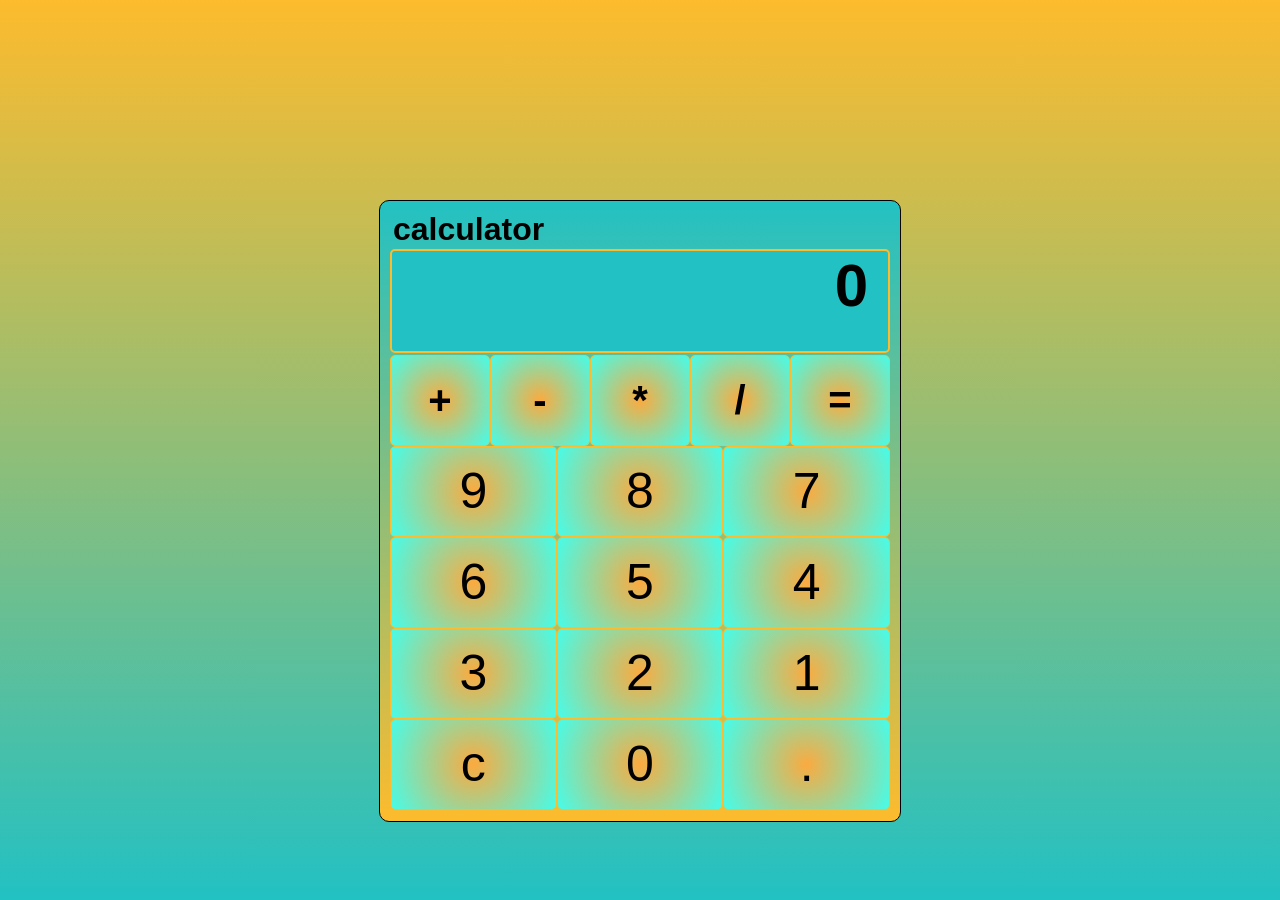
it: display calculations › display 6 when 3*2
Click the button "3" at (473, 673), box [390,628,557,719]
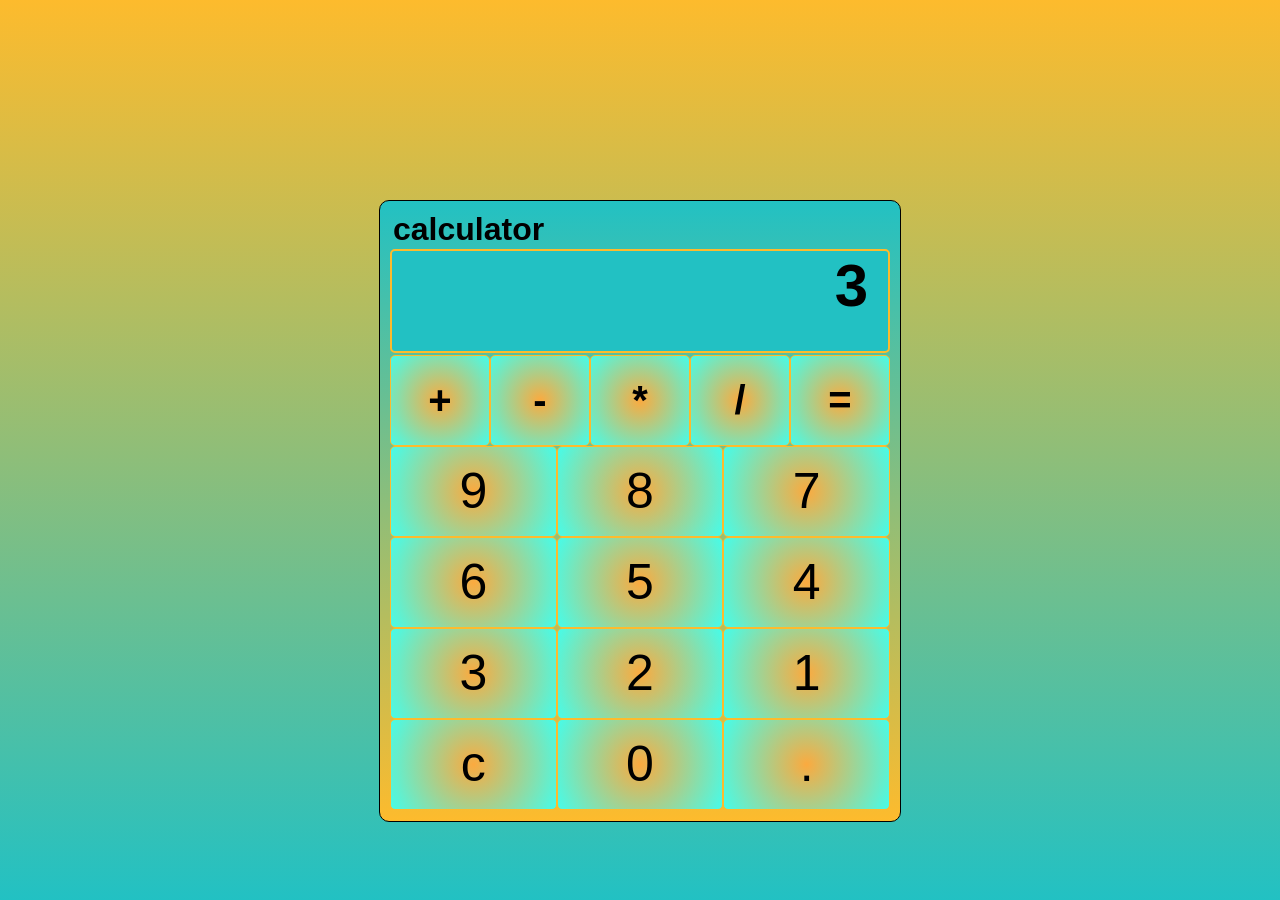
Click the button "*" at (640, 400), box [590,355,690,446]
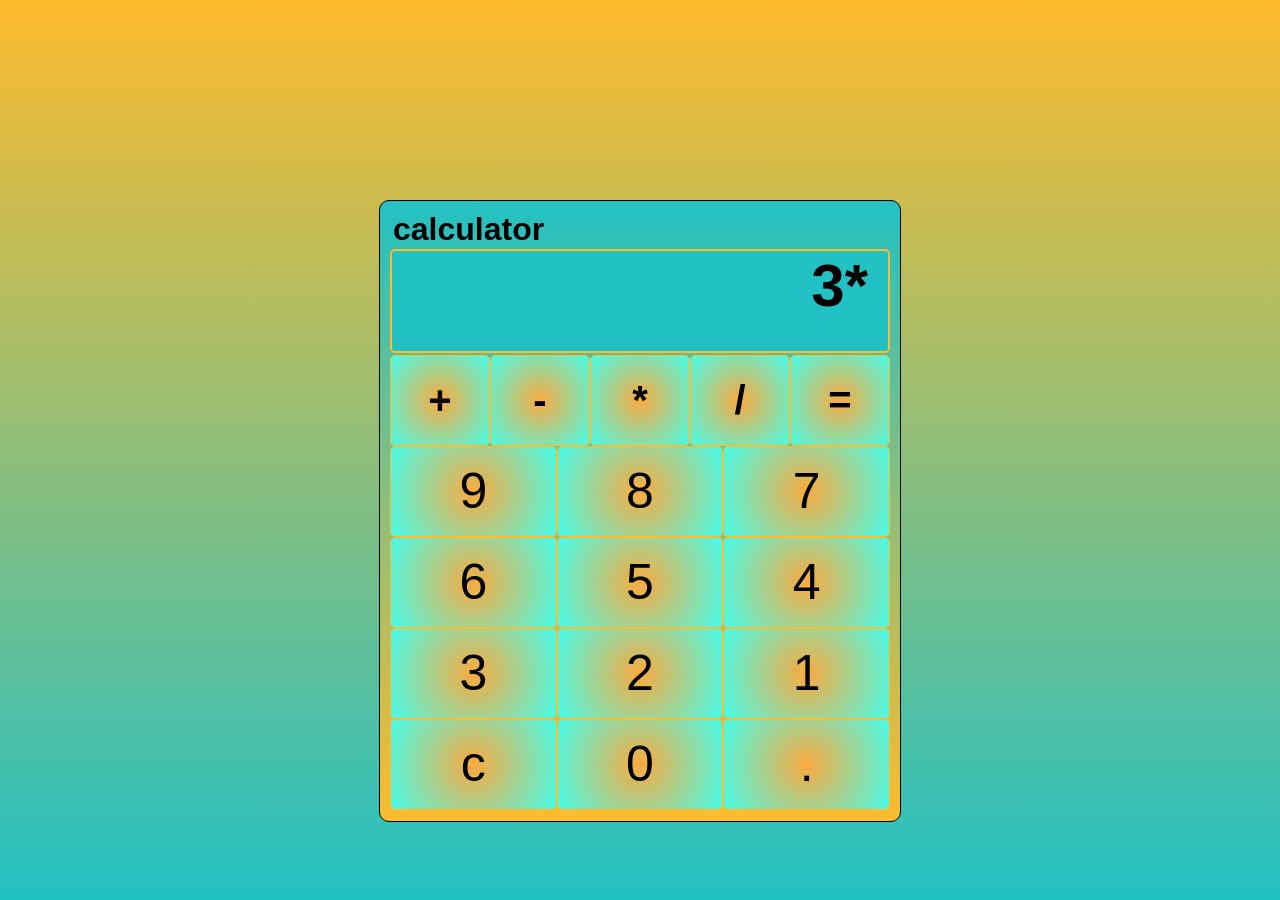
Click the button "2" at (640, 673), box [557,628,723,719]
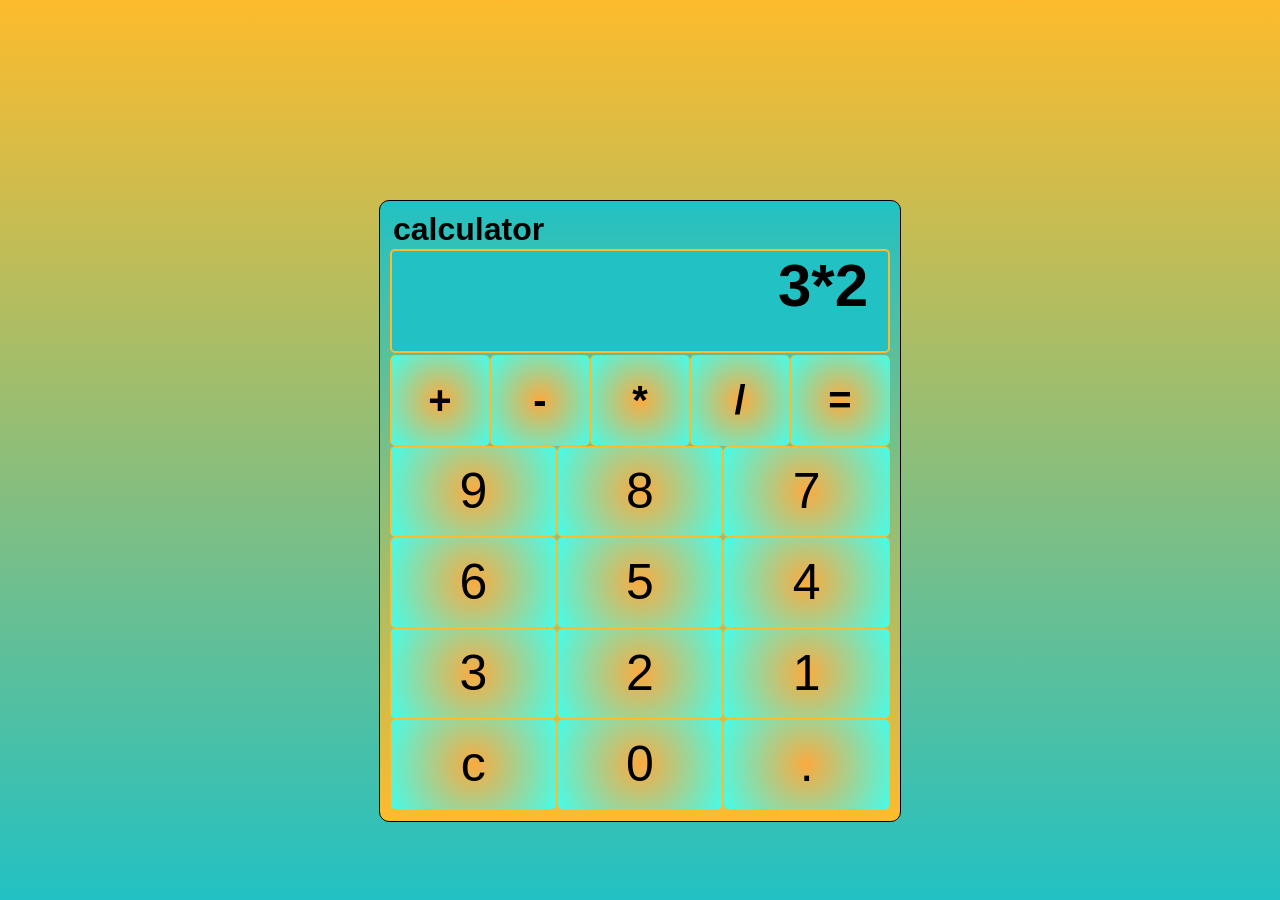
Click the button "=" at (840, 400), box [790,355,890,446]
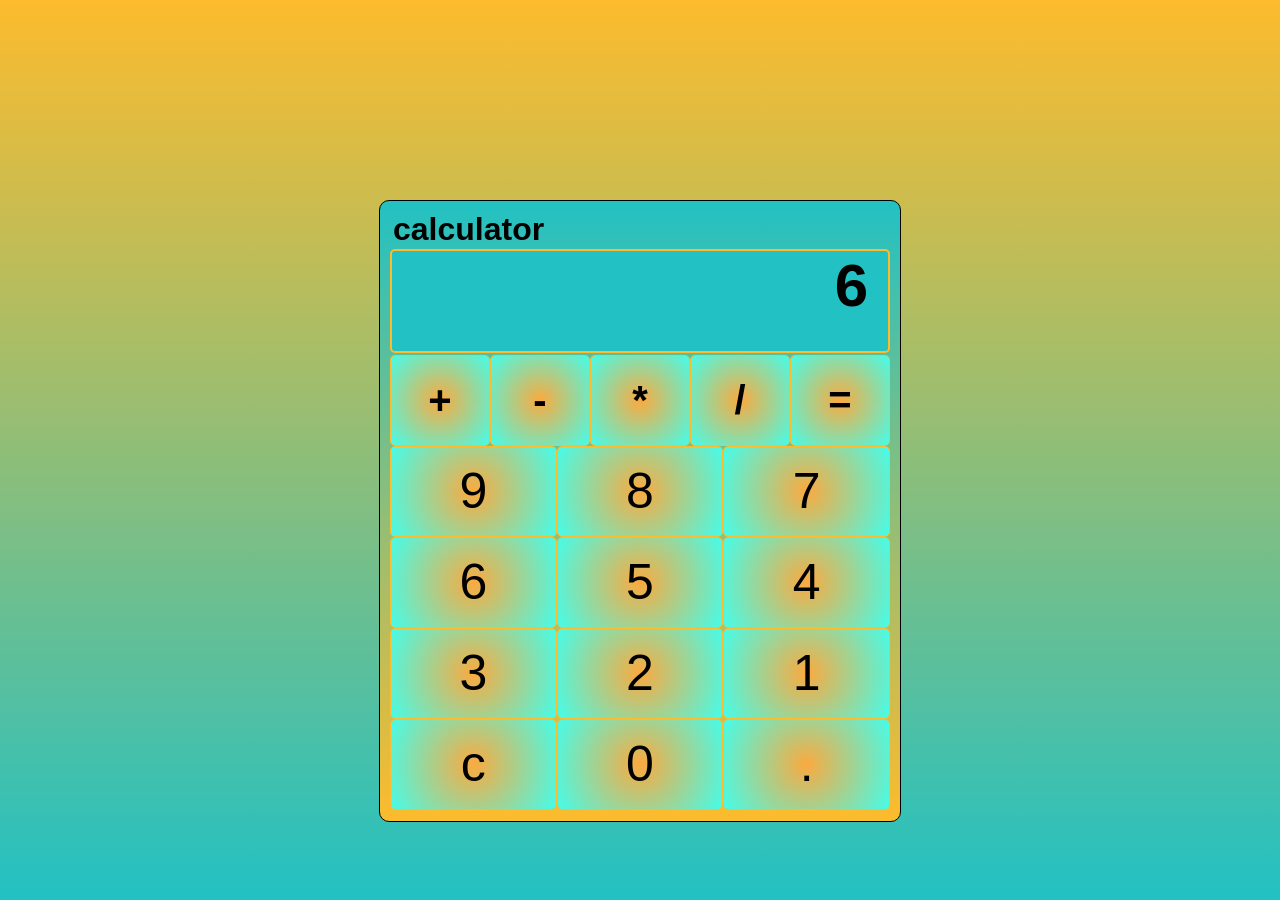
Expected: the heading with test id "display" reads "6", [835,252,868,319]
